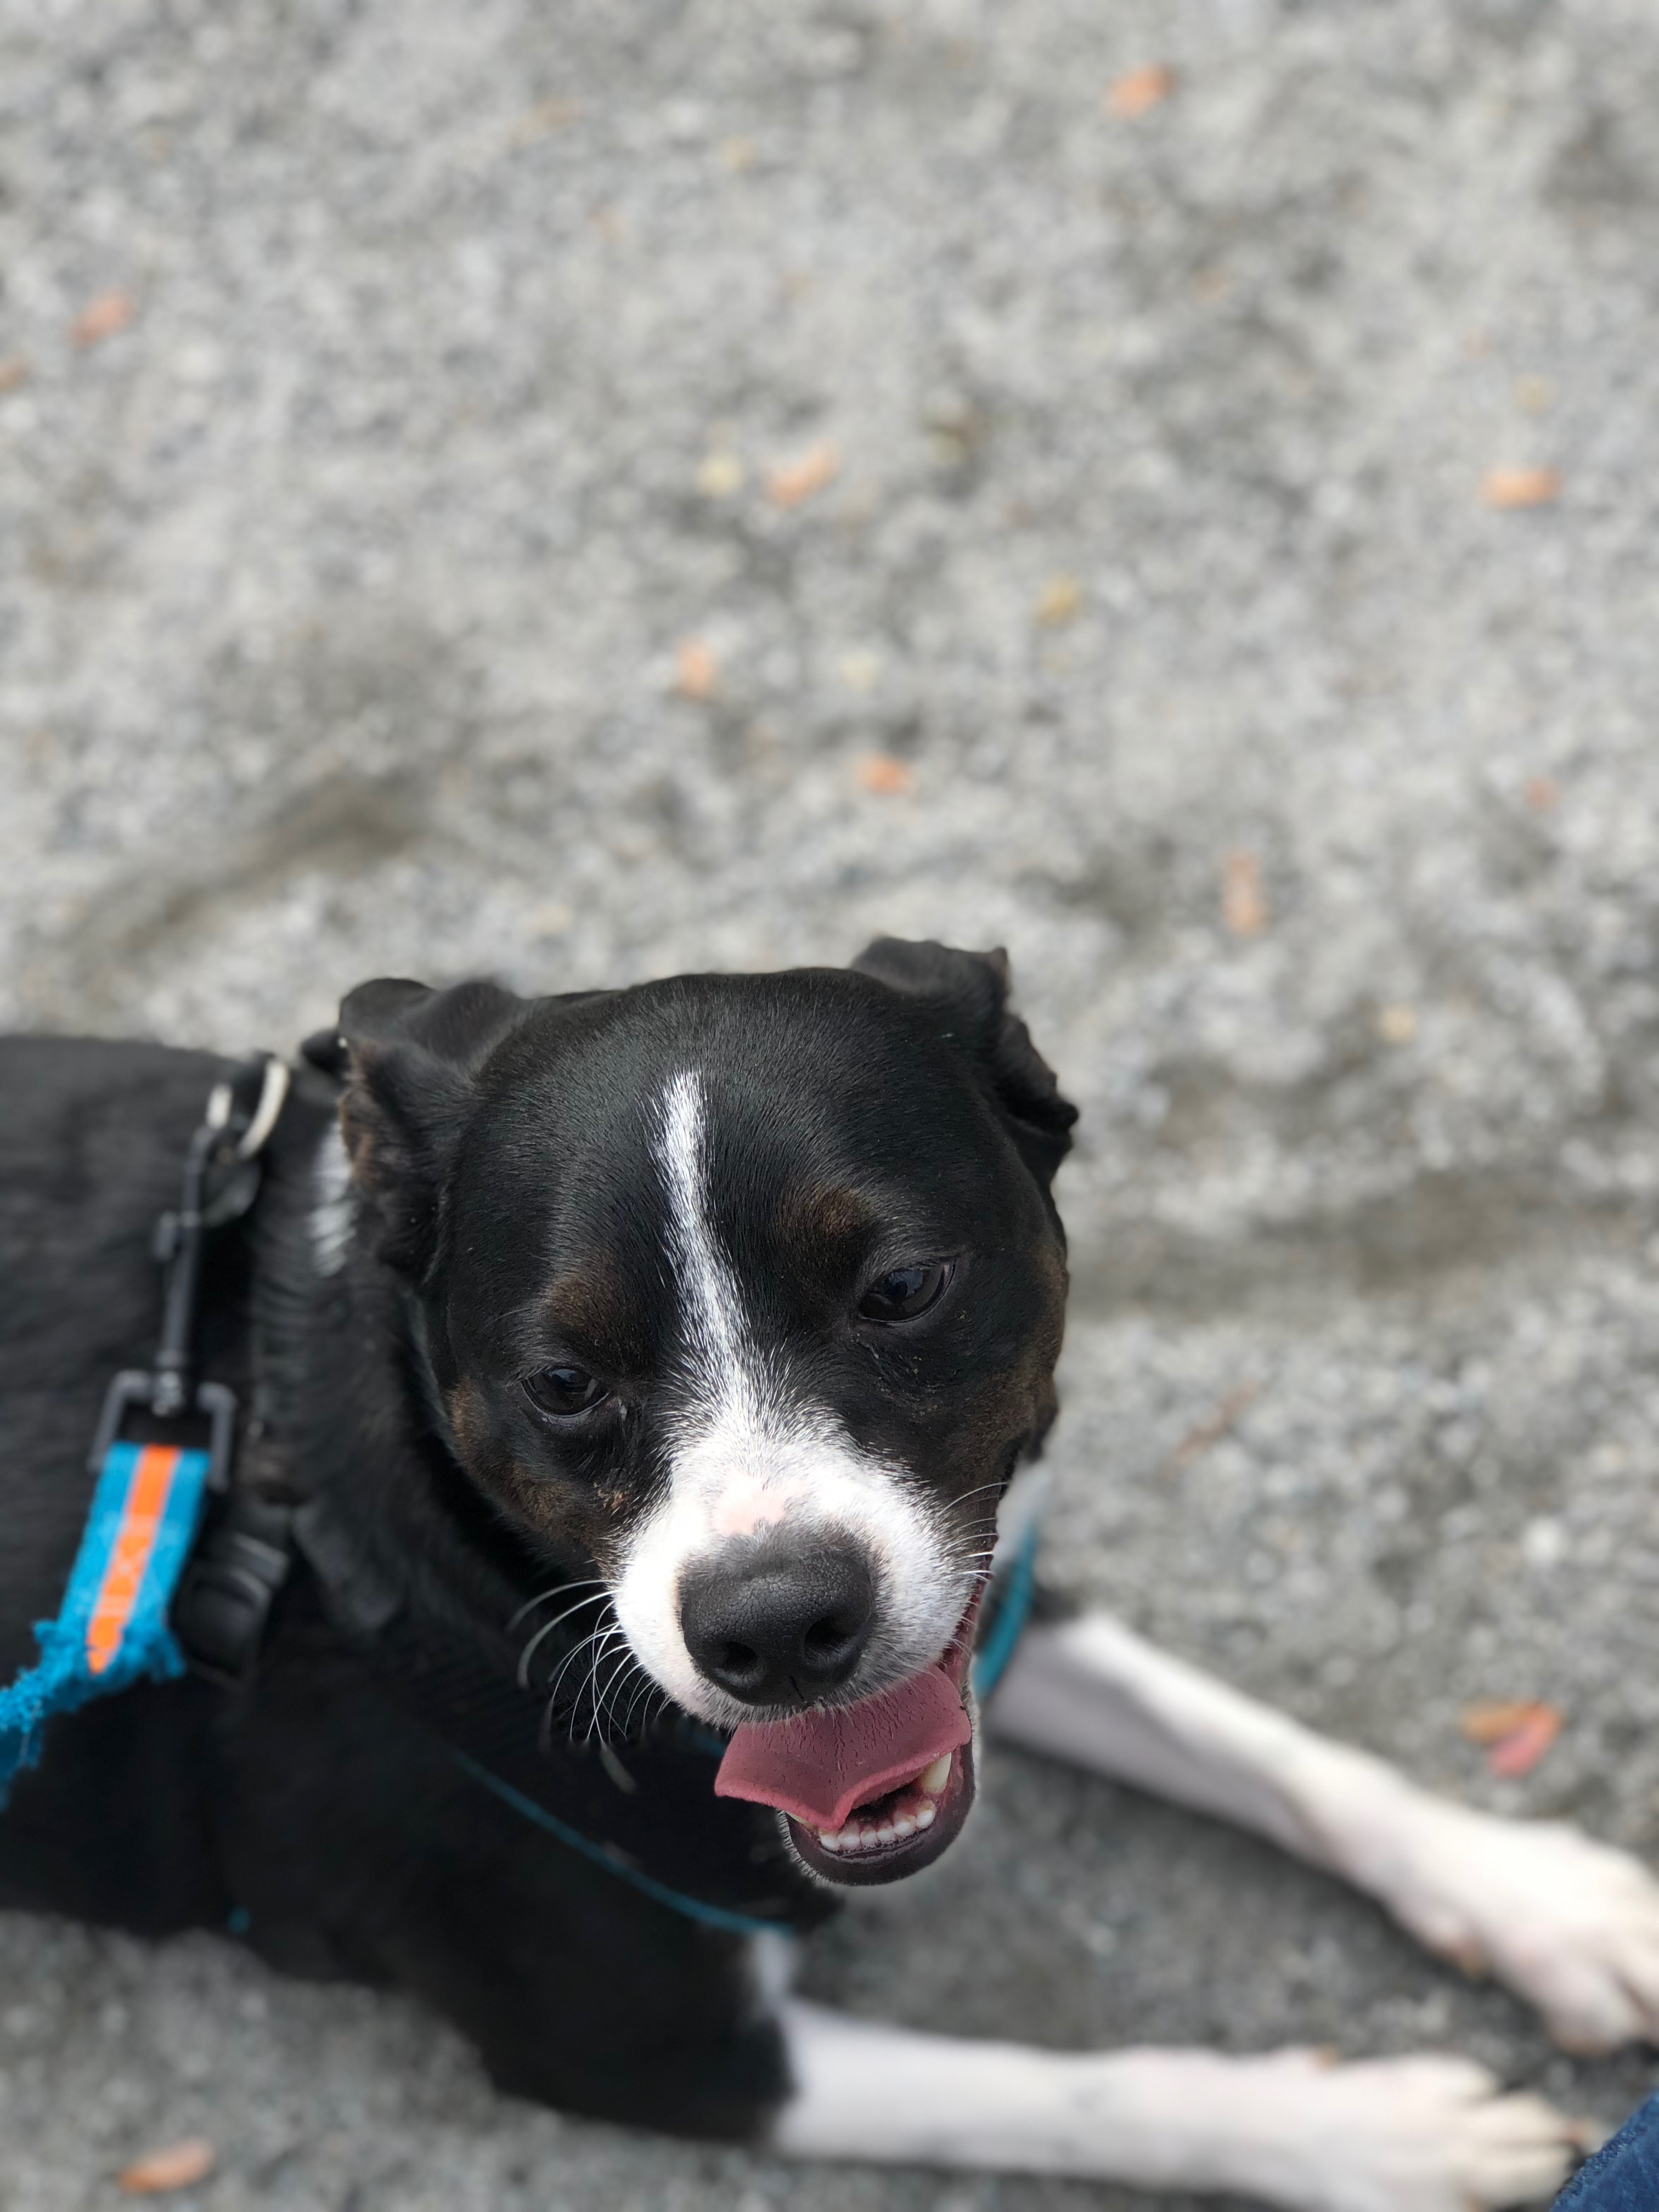Harley: (0, 907, 1633, 2135)
